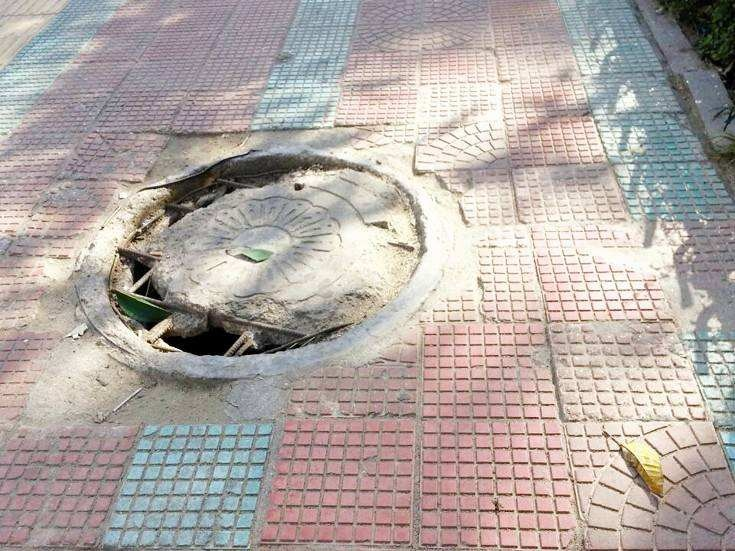well: (78, 143, 443, 375)
